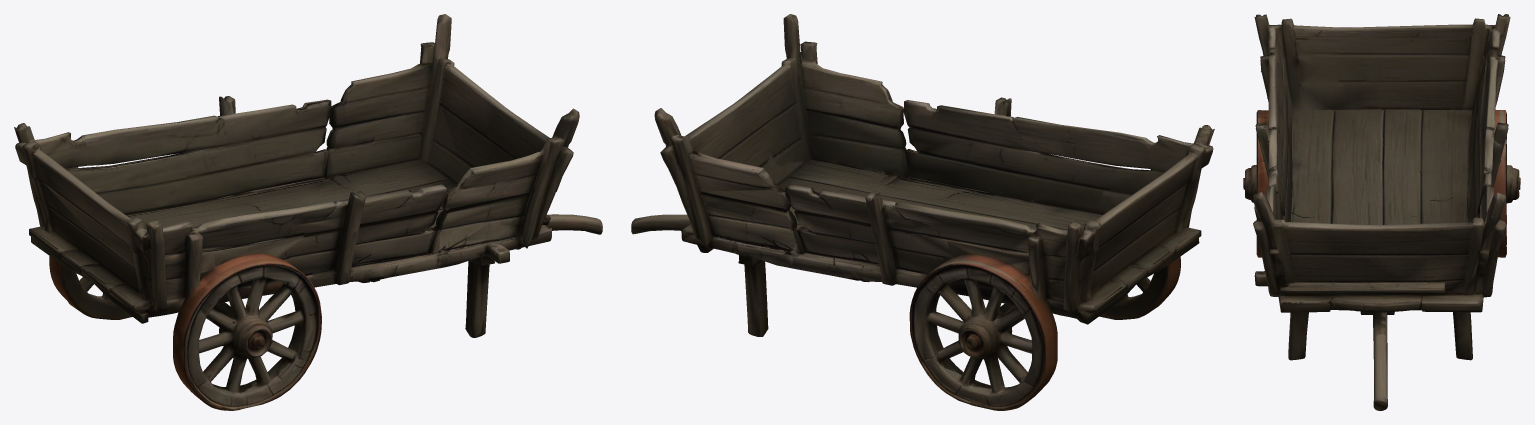
File: OldCart.opt.glb
3 renders of one model, left to right at view 1: azimuth 30°, elevation 25°; view 2: azimuth 150°, elevation 25°; view 3: azimuth 270°, elevation 25°, orthographic. The views are drawn at different scales.
Visible parts, largest first — view 1: node_0; view 2: node_0; view 3: node_0.
Boxes of the visible parts, left/top/right/bottom form: node_0: left=14, top=14, right=602, bottom=410; node_0: left=631, top=14, right=1214, bottom=410; node_0: left=1243, top=14, right=1520, bottom=410.
Bounding box in the file's own units: 1.05 × 0.4256 × 0.5295.
1 material, 1 textured.
